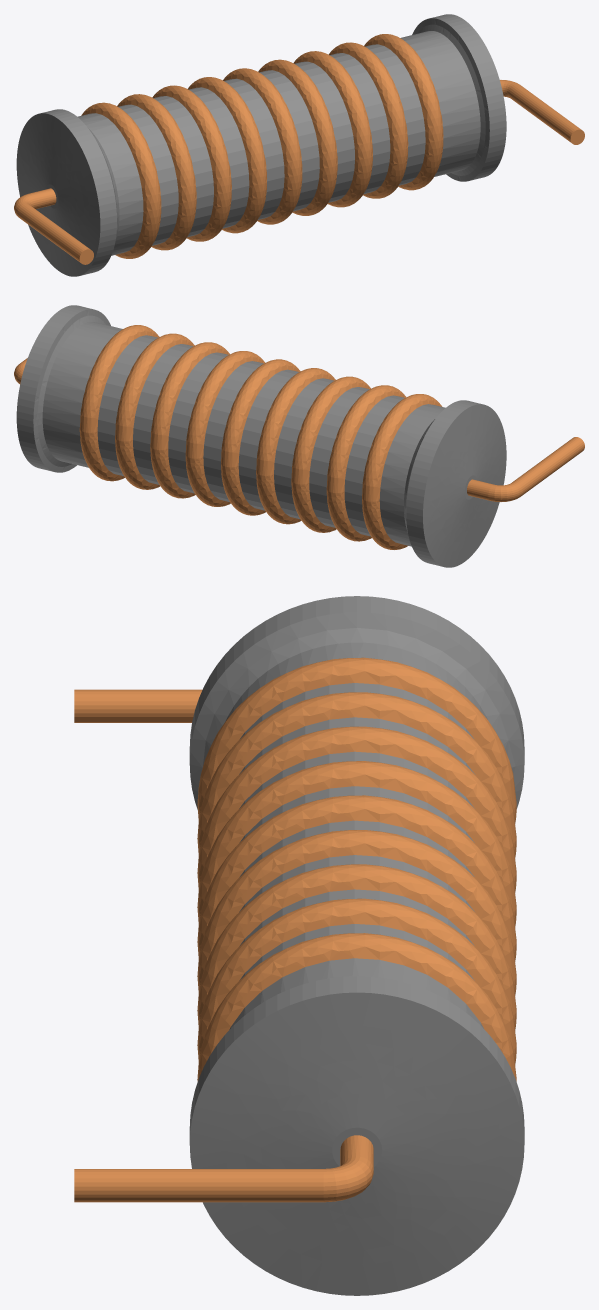
File: L_Axial_L26.0mm_D9.0mm_P30.48mm_Horizontal_Fastron_77A.glb
The picture shows the model from 3 angles, top to bottom: view 1: azimuth 30°, elevation 25°; view 2: azimuth 150°, elevation 25°; view 3: azimuth 270°, elevation 25°; orthographic projection. The views are drawn at different scales.
Visible parts, largest first — view 1: Shape_IndexedFaceSet.029, Shape_IndexedFaceSet.005, Shape_IndexedFaceSet.026, Shape_IndexedFaceSet.007, Shape_IndexedFaceSet.015, Shape_IndexedFaceSet.025, Shape_IndexedFaceSet.013, Shape_IndexedFaceSet.017, Shape_IndexedFaceSet.019, Shape_IndexedFaceSet.021, Shape_IndexedFaceSet.023, Shape_IndexedFaceSet.011 (+15 smaller); view 2: Shape_IndexedFaceSet.029, Shape_IndexedFaceSet.005, Shape_IndexedFaceSet.026, Shape_IndexedFaceSet.021, Shape_IndexedFaceSet.011, Shape_IndexedFaceSet.019, Shape_IndexedFaceSet.023, Shape_IndexedFaceSet.013, Shape_IndexedFaceSet.007, Shape_IndexedFaceSet.015, Shape_IndexedFaceSet.017, Shape_IndexedFaceSet.025 (+15 smaller); view 3: Shape_IndexedFaceSet, Shape_IndexedFaceSet.027, Shape_IndexedFaceSet.013, Shape_IndexedFaceSet.017, Shape_IndexedFaceSet.023, Shape_IndexedFaceSet.019, Shape_IndexedFaceSet.021, Shape_IndexedFaceSet.011, Shape_IndexedFaceSet.025, Shape_IndexedFaceSet.015, Shape_IndexedFaceSet.007, Shape_IndexedFaceSet.008 (+14 smaller).
Boxes of the visible parts, x1=… form: Shape_IndexedFaceSet.029: x1=16, y1=113, x2=100, y2=276; Shape_IndexedFaceSet.005: x1=400, y1=31, x2=480, y2=176; Shape_IndexedFaceSet.026: x1=77, y1=113, x2=143, y2=255; Shape_IndexedFaceSet.007: x1=364, y1=34, x2=443, y2=190; Shape_IndexedFaceSet.015: x1=258, y1=59, x2=337, y2=215; Shape_IndexedFaceSet.025: x1=81, y1=102, x2=161, y2=258; Shape_IndexedFaceSet.013: x1=293, y1=51, x2=372, y2=207; Shape_IndexedFaceSet.017: x1=223, y1=68, x2=302, y2=224; Shape_IndexedFaceSet.019: x1=188, y1=77, x2=267, y2=233; Shape_IndexedFaceSet.021: x1=152, y1=85, x2=231, y2=241; Shape_IndexedFaceSet.023: x1=117, y1=94, x2=196, y2=250; Shape_IndexedFaceSet.011: x1=328, y1=42, x2=408, y2=198; Shape_IndexedFaceSet.029: x1=423, y1=404, x2=506, y2=567; Shape_IndexedFaceSet.005: x1=42, y1=322, x2=122, y2=467; Shape_IndexedFaceSet.026: x1=379, y1=404, x2=445, y2=546; Shape_IndexedFaceSet.021: x1=291, y1=376, x2=370, y2=532; Shape_IndexedFaceSet.011: x1=115, y1=333, x2=194, y2=489; Shape_IndexedFaceSet.019: x1=256, y1=368, x2=335, y2=524; Shape_IndexedFaceSet.023: x1=326, y1=385, x2=406, y2=541; Shape_IndexedFaceSet.013: x1=150, y1=342, x2=229, y2=498; Shape_IndexedFaceSet.007: x1=79, y1=325, x2=159, y2=481; Shape_IndexedFaceSet.015: x1=185, y1=351, x2=265, y2=506; Shape_IndexedFaceSet.017: x1=221, y1=359, x2=300, y2=515; Shape_IndexedFaceSet.025: x1=362, y1=394, x2=442, y2=549; Shape_IndexedFaceSet: x1=189, y1=992, x2=524, y2=1295; Shape_IndexedFaceSet.027: x1=189, y1=612, x2=524, y2=809; Shape_IndexedFaceSet.013: x1=197, y1=864, x2=516, y2=1030; Shape_IndexedFaceSet.017: x1=197, y1=795, x2=516, y2=961; Shape_IndexedFaceSet.023: x1=197, y1=692, x2=516, y2=858; Shape_IndexedFaceSet.019: x1=197, y1=761, x2=516, y2=927; Shape_IndexedFaceSet.021: x1=197, y1=726, x2=516, y2=892; Shape_IndexedFaceSet.011: x1=197, y1=898, x2=516, y2=1064; Shape_IndexedFaceSet.025: x1=197, y1=657, x2=516, y2=823; Shape_IndexedFaceSet.015: x1=197, y1=830, x2=516, y2=995; Shape_IndexedFaceSet.007: x1=197, y1=933, x2=516, y2=1081; Shape_IndexedFaceSet.008: x1=74, y1=1169, x2=323, y2=1202.
Size of the model in its own units: 12.35 by 3.54 by 4.76.
